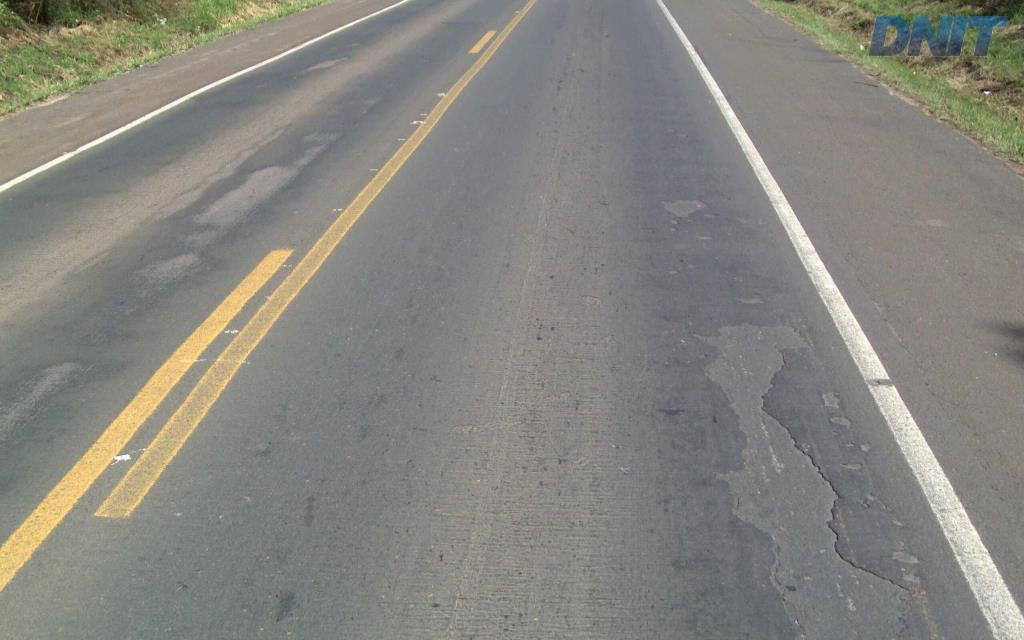pothole: (682, 304, 924, 638), (646, 185, 709, 221), (886, 547, 924, 569), (812, 385, 843, 409), (826, 411, 858, 431), (836, 461, 870, 474), (838, 436, 860, 451), (859, 441, 879, 457)
